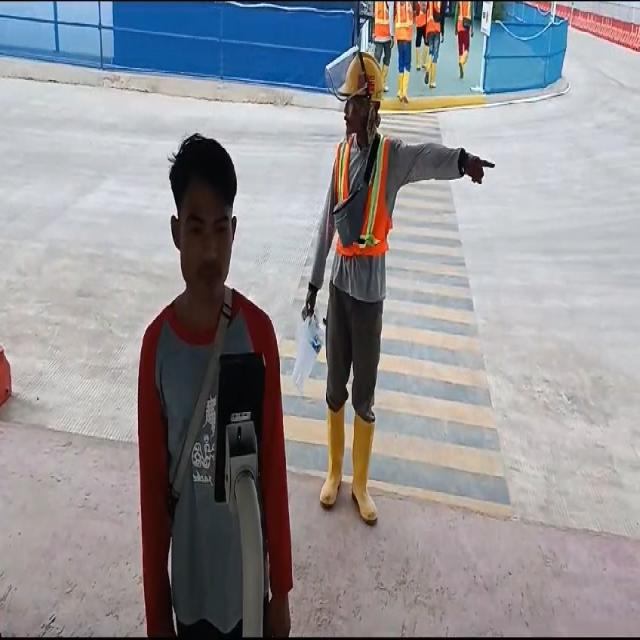helmet: (338, 52, 384, 103)
safety_vest: (334, 136, 391, 253)
